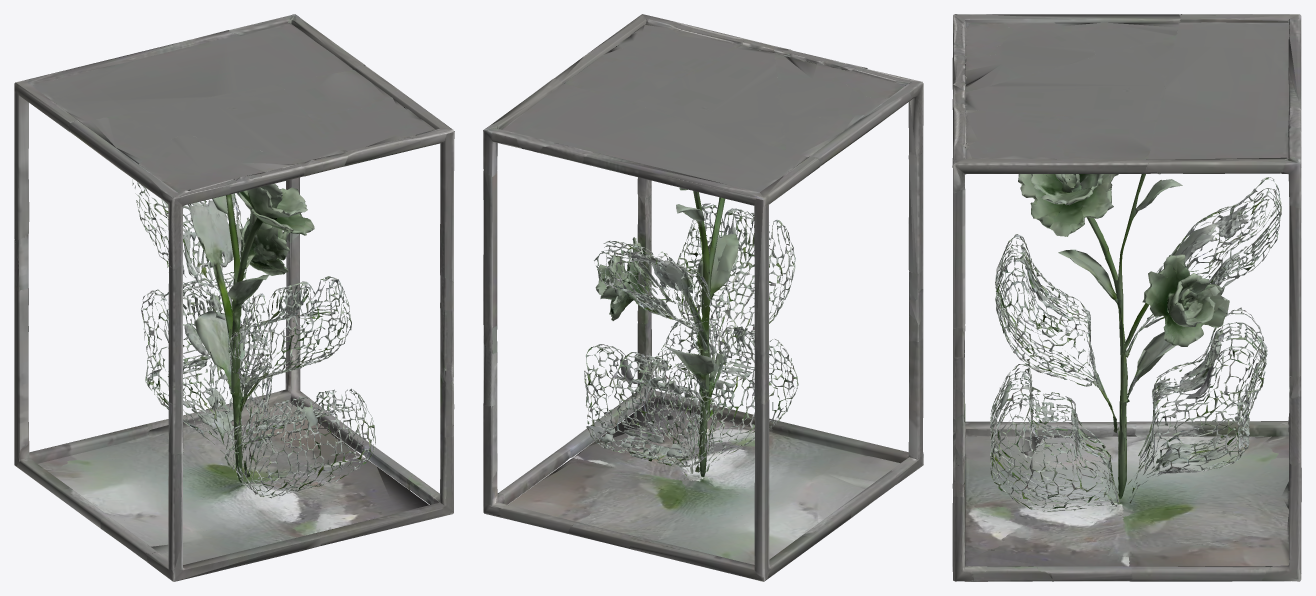
The model's file is cicex2-opt-v7.glb.
The picture shows the model from 3 angles, left to right: view 1: azimuth 30°, elevation 25°; view 2: azimuth 150°, elevation 25°; view 3: azimuth 270°, elevation 25°; orthographic projection. The views are drawn at different scales.
Parts seen in each view (by area): view 1: cicex2; view 2: cicex2; view 3: cicex2.
Boxes of the visible parts, box(x1,y1,x2,y2) form: cicex2: box(14, 14, 454, 581); cicex2: box(483, 14, 923, 581); cicex2: box(952, 14, 1301, 581).
Size of the model in its own units: 0.7712 by 1 by 0.7564.
Materials: 1 (1 with a texture image).
